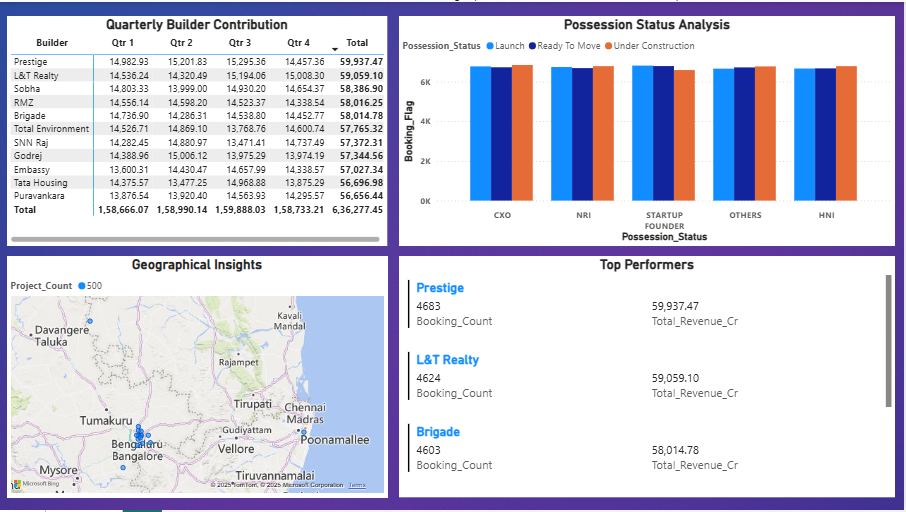

This screenshot's page, from the dashboard's own definition file:
{"tool":"powerbi","page":{"name":"Page 2","canvas":[1280,720],"ordinal":1},"visuals":[{"type":"pivotTable","title":"Quarterly Builder Contribution","fields":{"Rows":["Quarterly Builder Contribution.Builder"],"Columns":["Quarterly Builder Contribution.Purchase_Quarter.Variation.Date Hierarchy.Quarter"],"Values":["Sum(Quarterly Builder Contribution.Total_Sales_Cr)"]},"box":[0,0,565.5,345.8],"z":0},{"type":"clusteredColumnChart","title":"Possession Status Analysis","fields":{"Category":["Possession Status Analysis.Buyer_Type"],"Y":["Sum(Possession Status Analysis.Count)"],"Series":["Possession Status Analysis.Possession_Status"]},"box":[565.5,0,714.3,360],"z":1000},{"type":"map","title":"Geographical Insights","fields":{"Category":["Geographical Insights.Micro_Market"],"Series":["Geographical Insights.Project_Count"]},"box":[0,345.8,565.5,374.2],"z":2000},{"type":"multiRowCard","title":"Top Performers","fields":{"Values":["Top Performers.Builder","Top Performers.Booking_Count","Top Performers.Total_Revenue_Cr"]},"box":[565.5,360,714.3,360],"z":3000}]}

Visuals, with their boxes in screenshot pixels (x1, y1, x2, y2), scaled from the page's 1280x720 canvas onto the 906x512 screenshot:
"Quarterly Builder Contribution" pivotTable: detection(0, 0, 400, 246)
"Possession Status Analysis" clusteredColumnChart: detection(400, 0, 905, 256)
"Geographical Insights" map: detection(0, 246, 400, 511)
"Top Performers" multiRowCard: detection(400, 256, 905, 511)
